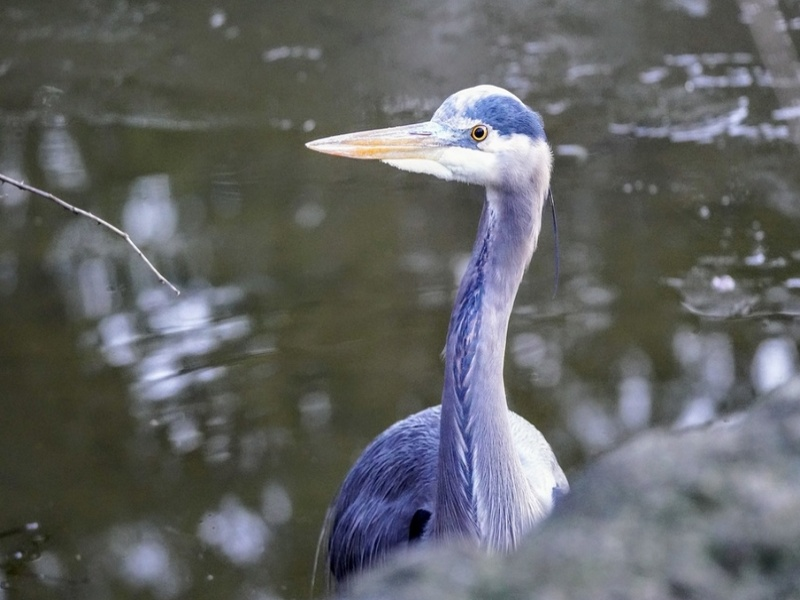heron: (293, 84, 574, 564)
